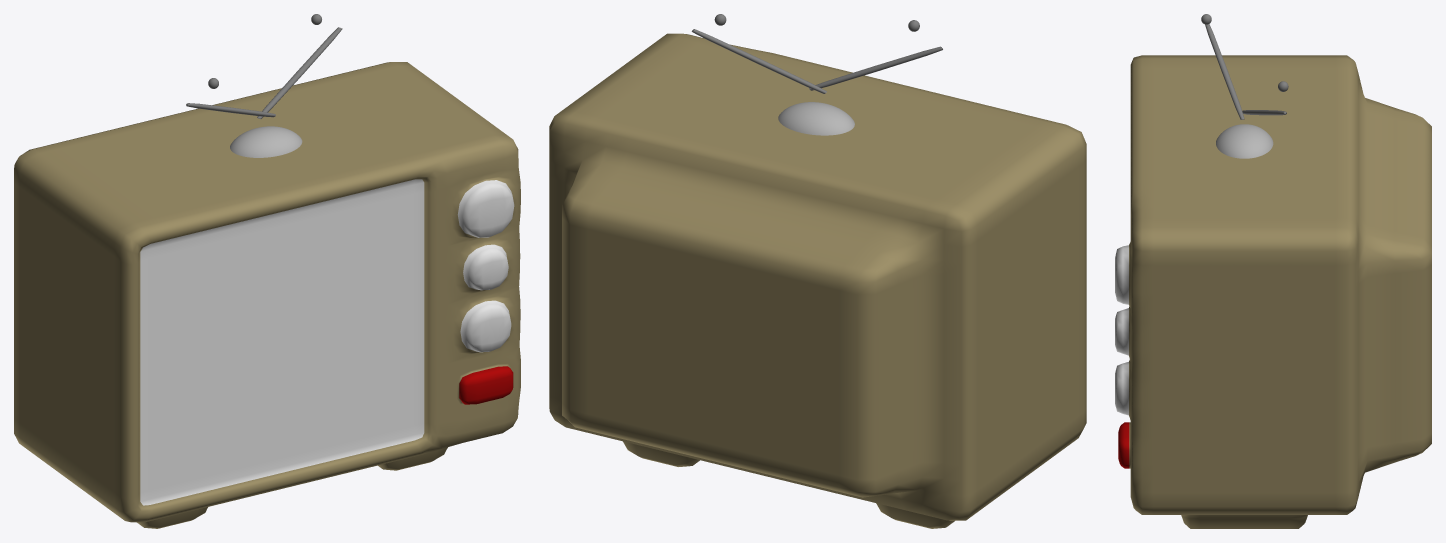
3 views of the same model, side by side, from view 1: azimuth 30°, elevation 25°; view 2: azimuth 150°, elevation 25°; view 3: azimuth 270°, elevation 25° (orthographic). The views are drawn at different scales.
Visible parts, largest first — view 1: TV, Antena_holder, Antena2; view 2: TV, Antena_holder, Antena2, Antena1; view 3: TV, Antena_holder, Antena1.
Boxes of the visible parts, box(x1,y1,x2,y2) form: TV: box(14, 62, 520, 528); Antena_holder: box(230, 126, 302, 157); Antena2: box(257, 27, 342, 118); TV: box(549, 33, 1086, 528); Antena_holder: box(778, 102, 854, 135); Antena2: box(691, 29, 826, 93); Antena1: box(809, 46, 942, 90); TV: box(1115, 55, 1431, 528); Antena_holder: box(1216, 124, 1273, 158); Antena1: box(1205, 24, 1244, 119).
Size of the model in its own units: 14.17 by 14.59 by 10.11.
